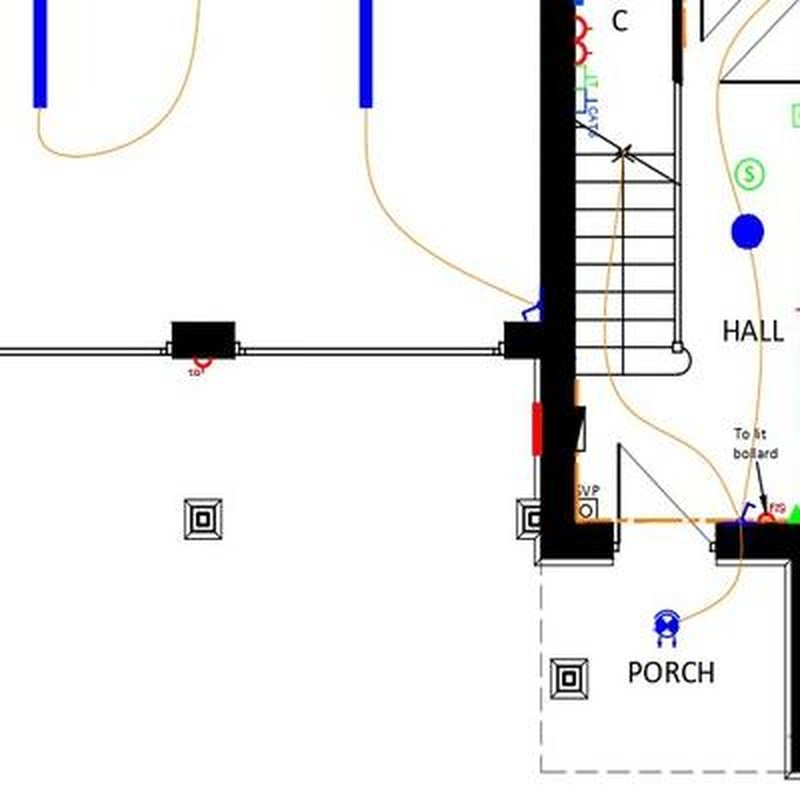BT Entry Point: (785, 501, 800, 522)
Cat 6 Data Socket: (575, 88, 599, 137)
Double Socket: (573, 14, 594, 67)
Electric Meter Box: (531, 401, 543, 457)
Fused spur: (758, 504, 785, 524)
Light Switch: (521, 300, 540, 321), (739, 502, 756, 523)
Low Energy Downlighter: (653, 610, 680, 650)
Low Energy Pendant Light: (731, 213, 765, 249)
Mains Wired Smoke Detector: (735, 158, 764, 190)
Outside Socket: (189, 357, 214, 379)
Programmable Room Thermostat: (792, 105, 800, 128)
Telephone Socket: (575, 65, 599, 95)
Twin LED Strip Light: (360, 1, 372, 108), (35, 1, 45, 108)
